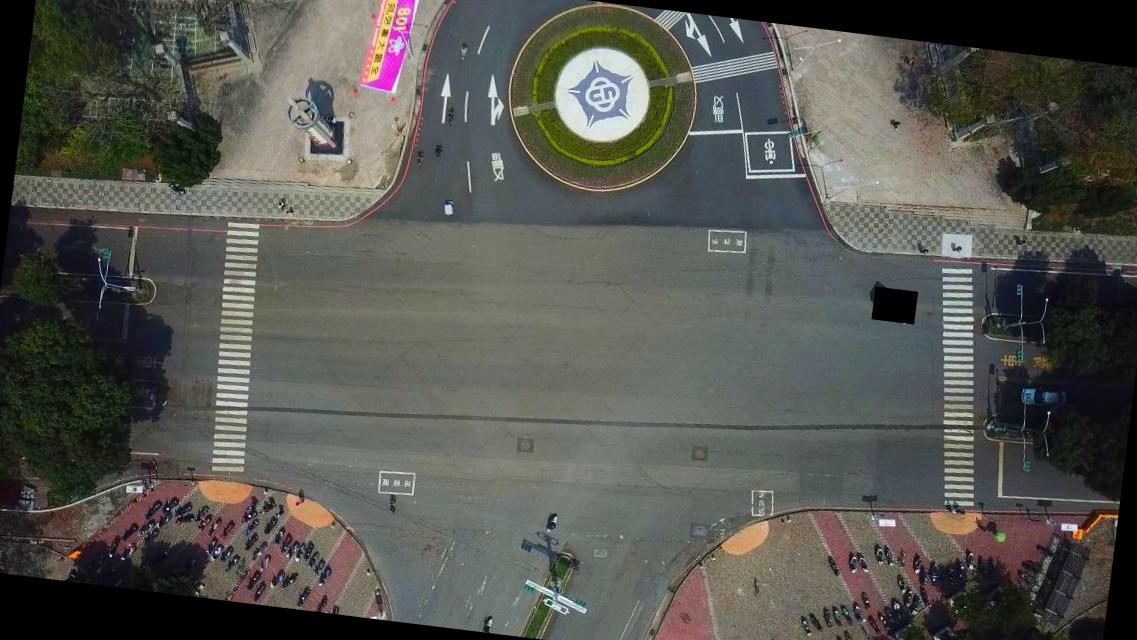vehicle: (1016, 384, 1071, 410)
